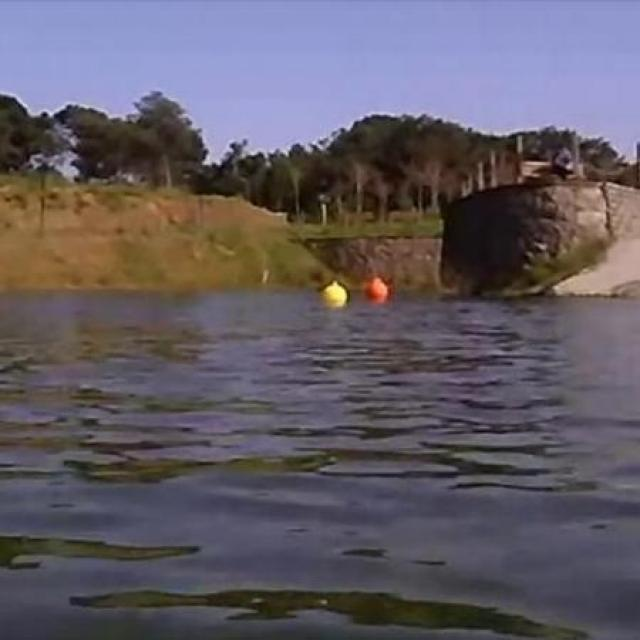buoy: (318, 283, 348, 307), (363, 272, 387, 301)
